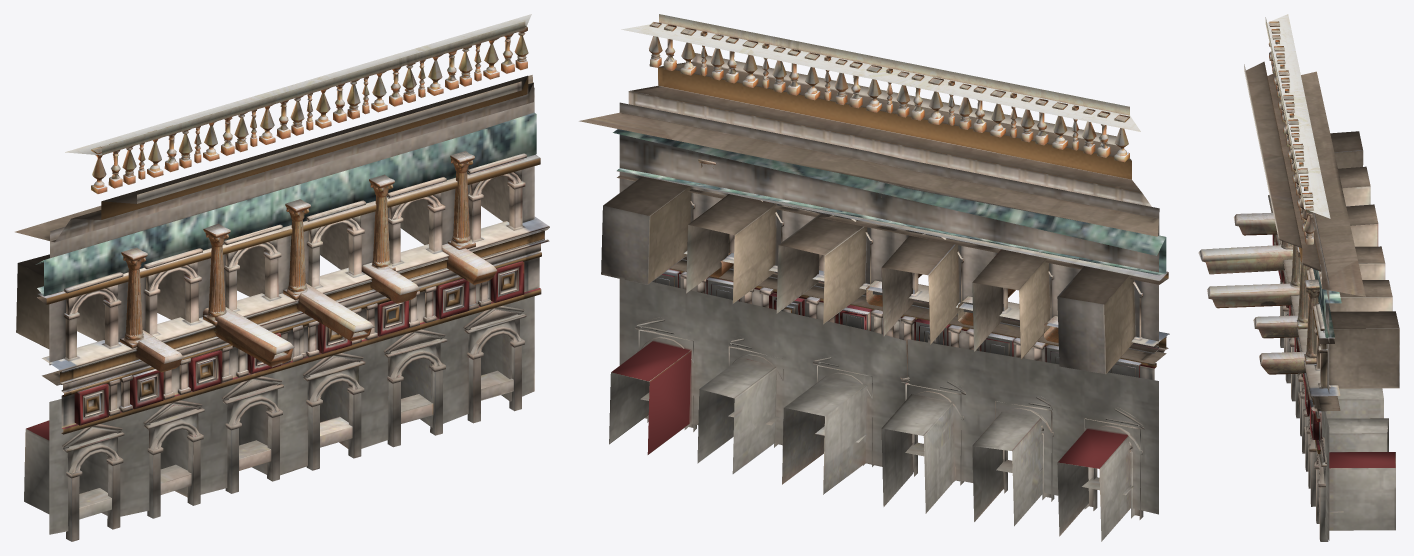
The model's file is Wall03.gltf.
3 renders of one model, left to right at view 1: azimuth 30°, elevation 25°; view 2: azimuth 150°, elevation 25°; view 3: azimuth 270°, elevation 25°, orthographic. The views are drawn at different scales.
Visible parts, largest first — view 1: Wall03; view 2: Wall03; view 3: Wall03.
Part boxes in pixels (x1=…): Wall03: x1=15, y1=14, x2=549, y2=541; Wall03: x1=579, y1=14, x2=1169, y2=541; Wall03: x1=1198, y1=14, x2=1399, y2=541.
Bounding box in the file's own units: 16.62 × 11.49 × 6.21.
Materials: 2 (2 with a texture image).
